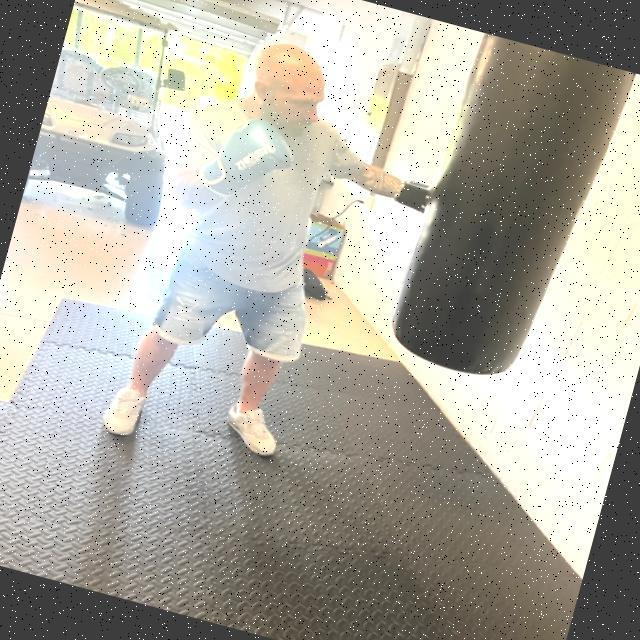punch: (167, 11, 507, 279)
